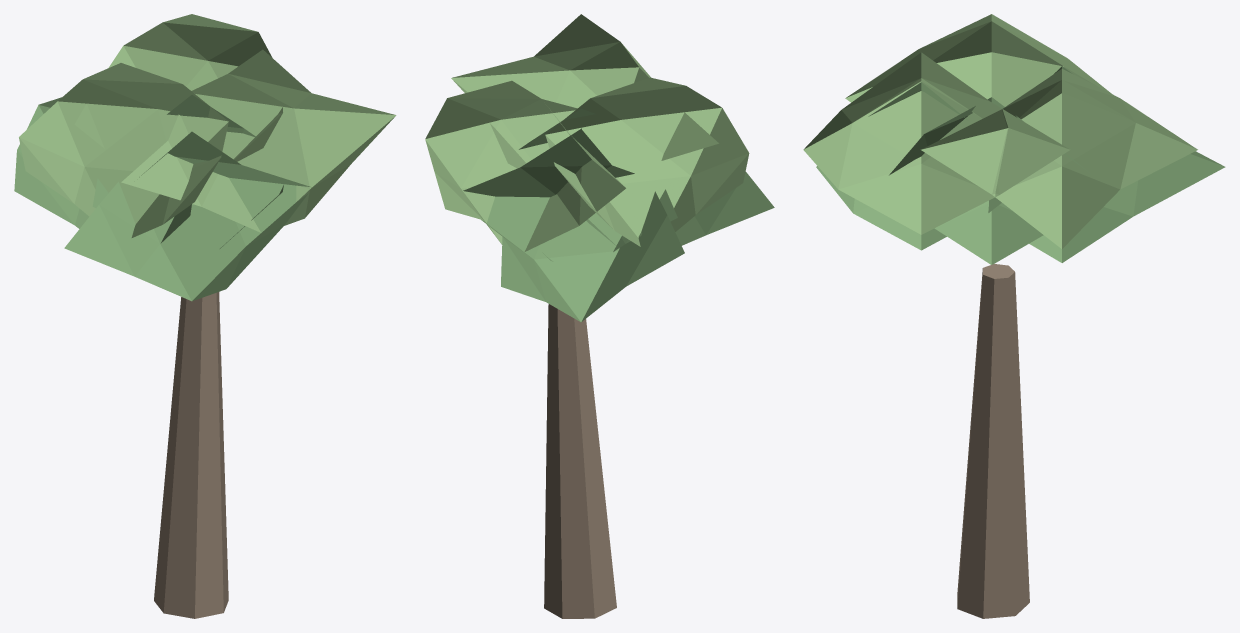
The model's file is broadleaf_v14.glb.
3 renders of one model, left to right at view 1: azimuth 30°, elevation 25°; view 2: azimuth 150°, elevation 25°; view 3: azimuth 270°, elevation 25°, orthographic. The views are drawn at different scales.
Visible parts, largest first — view 1: lod0; view 2: lod0; view 3: lod0.
Part boxes in pixels (<box>): lod0: <box>14,14,396,618</box>; lod0: <box>425,14,774,618</box>; lod0: <box>803,14,1225,618</box>.
Size of what is drawn, in the model's own units: 3.62 by 5.91 by 3.98.
